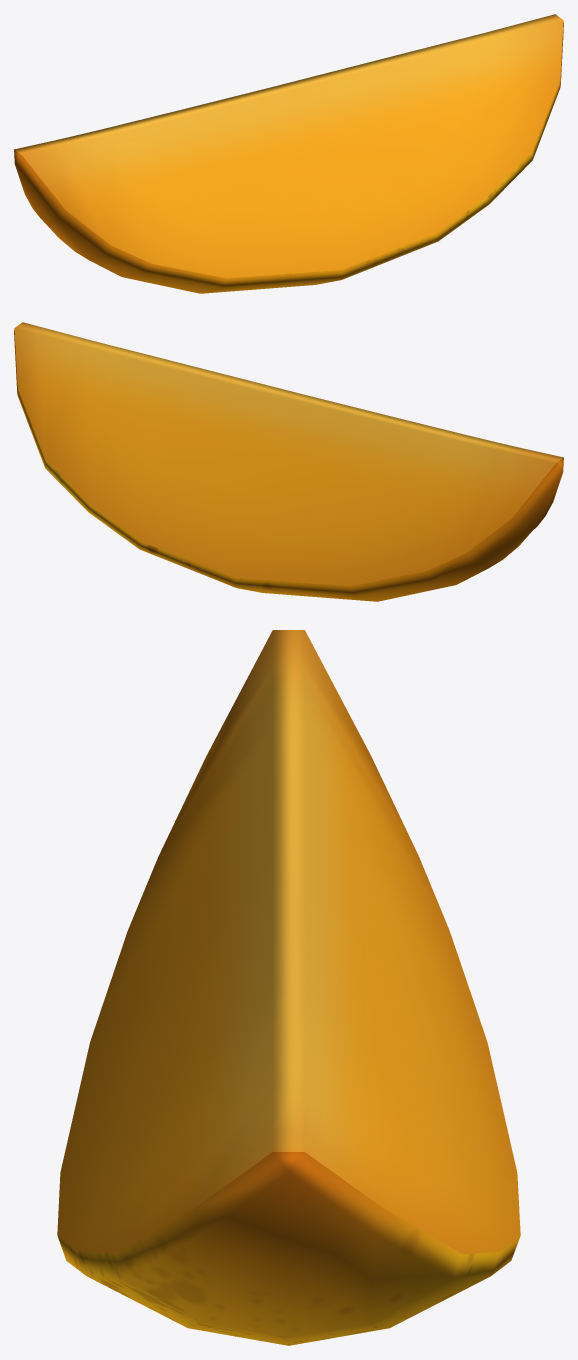
The model's file is Mango_Yellow_Slice.fbx.
The picture shows the model from 3 angles, top to bottom: view 1: azimuth 30°, elevation 25°; view 2: azimuth 150°, elevation 25°; view 3: azimuth 270°, elevation 25°; orthographic projection. The views are drawn at different scales.
Visible parts, largest first — view 1: Mango_Yellow_Slice; view 2: Mango_Yellow_Slice; view 3: Mango_Yellow_Slice.
Boxes of the visible parts, x1,y1,x2,y2 form: Mango_Yellow_Slice: (14,14,563,293); Mango_Yellow_Slice: (14,322,563,601); Mango_Yellow_Slice: (57,630,520,1345).
Size of the model in its own units: 40.95 by 13.66 by 14.96.
